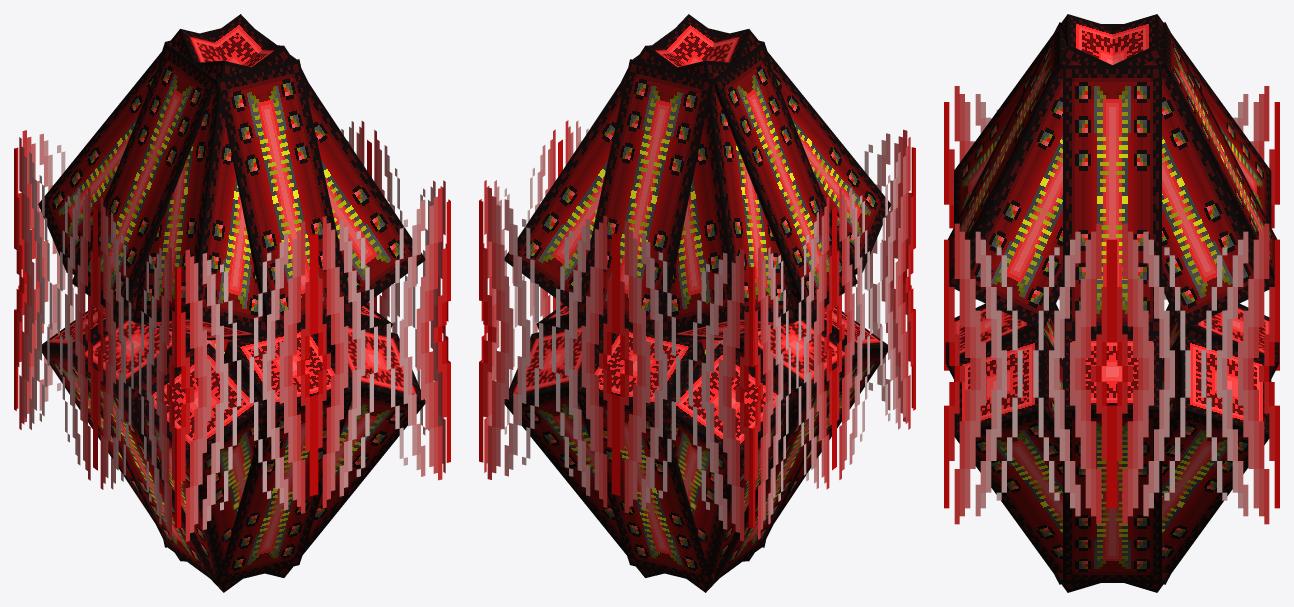
The picture shows the model from 3 angles, left to right: view 1: azimuth 30°, elevation 25°; view 2: azimuth 150°, elevation 25°; view 3: azimuth 270°, elevation 25°; orthographic projection. The views are drawn at different scales.
Visible parts, largest first — view 1: cube (×12); view 2: cube (×12); view 3: cube (×13).
Part boxes in pixels (x1,y1,x2,y2): cube (×12): [14, 14, 450, 592]; cube (×12): [479, 14, 915, 592]; cube (×13): [944, 14, 1279, 592].
Bounding box in the file's own units: 2.27 × 4.21 × 2.34.
1 material, 1 textured.
